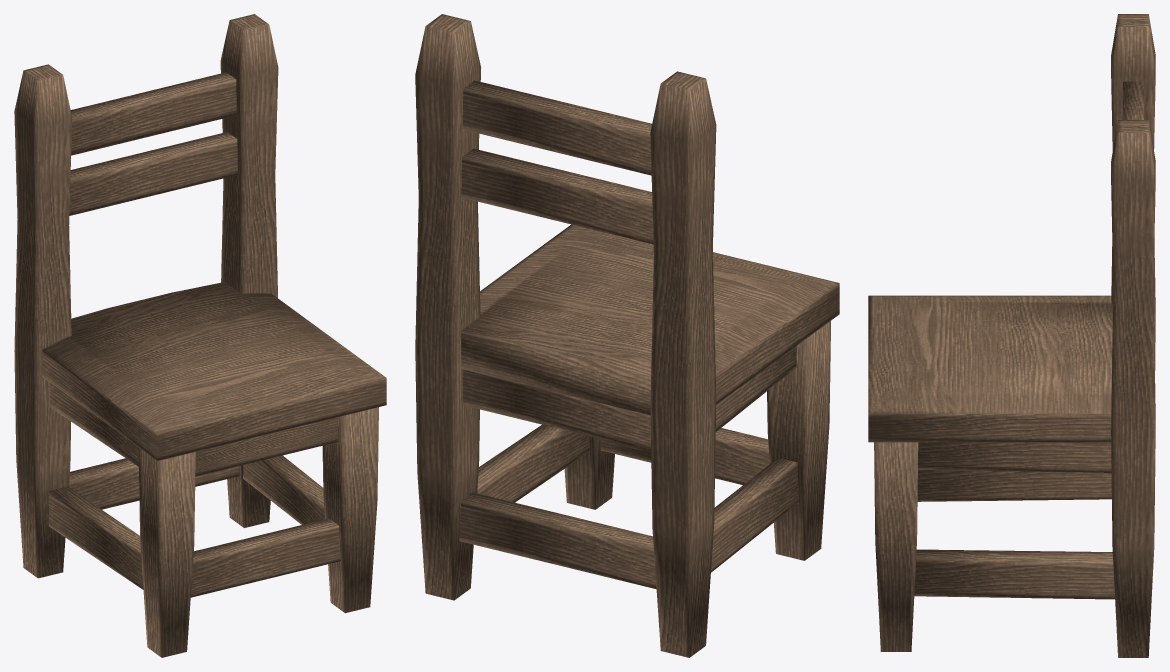
Rendered from chair.fbx.
The picture shows the model from 3 angles, left to right: view 1: azimuth 30°, elevation 25°; view 2: azimuth 150°, elevation 25°; view 3: azimuth 270°, elevation 25°; orthographic projection. The views are drawn at different scales.
Parts seen in each view (by area): view 1: sitter, leg.003, leg.004, leg.001, leg.002, ext.009, ext.010, ext.005, ext.007, ext.001, ext.006, ext.008 (+1 smaller); view 2: sitter, leg.003, leg.004, leg.001, ext.008, ext.009, ext.010, ext.004, ext.007, ext.006, ext.005, leg.002 (+1 smaller); view 3: sitter, leg.004, ext.006, leg.002, ext.007, ext.002, leg.003, ext.010.
Boxes of the visible parts, bbox=[...] form: sitter: bbox=[42, 282, 386, 460]; leg.003: bbox=[14, 64, 72, 578]; leg.004: bbox=[220, 14, 278, 527]; leg.001: bbox=[138, 447, 195, 657]; leg.002: bbox=[322, 407, 378, 613]; ext.009: bbox=[69, 132, 237, 215]; ext.010: bbox=[70, 72, 236, 155]; ext.005: bbox=[190, 518, 340, 597]; ext.007: bbox=[48, 486, 143, 589]; ext.001: bbox=[195, 417, 337, 476]; ext.006: bbox=[243, 455, 324, 524]; ext.008: bbox=[69, 458, 239, 509]; sitter: bbox=[461, 224, 839, 415]; leg.003: bbox=[650, 71, 716, 657]; leg.004: bbox=[415, 14, 480, 600]; leg.001: bbox=[767, 321, 830, 560]; ext.008: bbox=[459, 492, 656, 589]; ext.009: bbox=[461, 148, 653, 244]; ext.010: bbox=[462, 80, 651, 175]; ext.004: bbox=[463, 369, 651, 450]; ext.007: bbox=[711, 457, 798, 572]; ext.006: bbox=[477, 424, 589, 502]; ext.005: bbox=[600, 428, 769, 484]; leg.002: bbox=[564, 436, 614, 509]; sitter: bbox=[868, 295, 1112, 442]; leg.004: bbox=[1111, 120, 1155, 657]; ext.006: bbox=[914, 549, 1114, 599]; leg.002: bbox=[874, 442, 918, 651]; ext.007: bbox=[917, 470, 1111, 501]; ext.002: bbox=[918, 442, 1111, 472]; leg.003: bbox=[1111, 14, 1155, 370]; ext.010: bbox=[1123, 81, 1143, 119].
Size of the model in its own units: 42.4 by 83 by 41.2.
